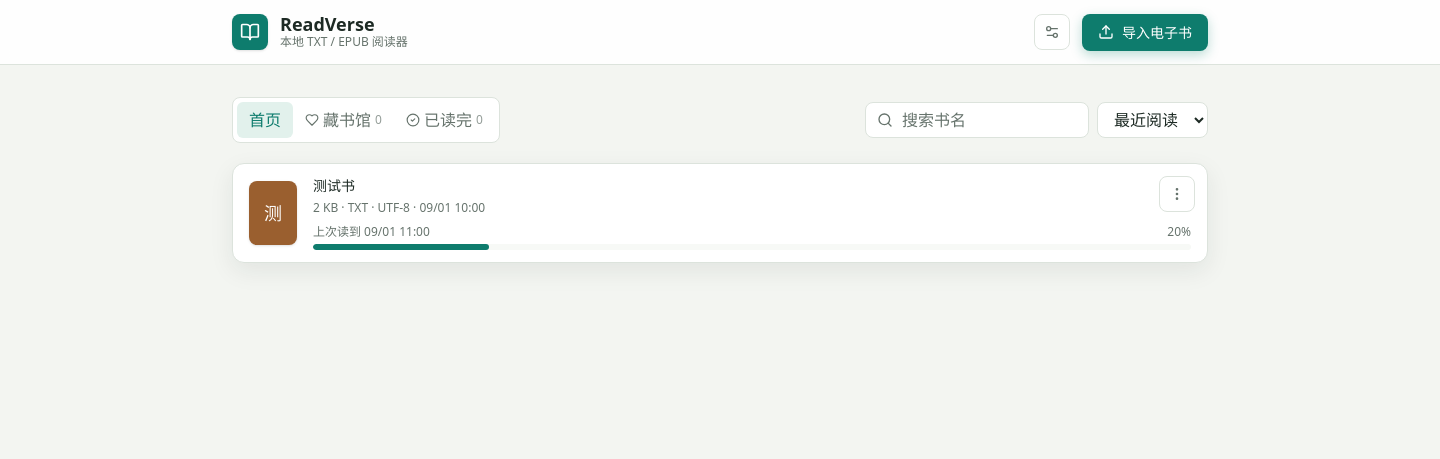
Scenario: Shelf › shows imported books and imports a new one
Expected: the text "测试书" is shown, [313, 176, 355, 196]
Click the button "导入电子书": (1145, 32) [1082, 14, 1208, 50]
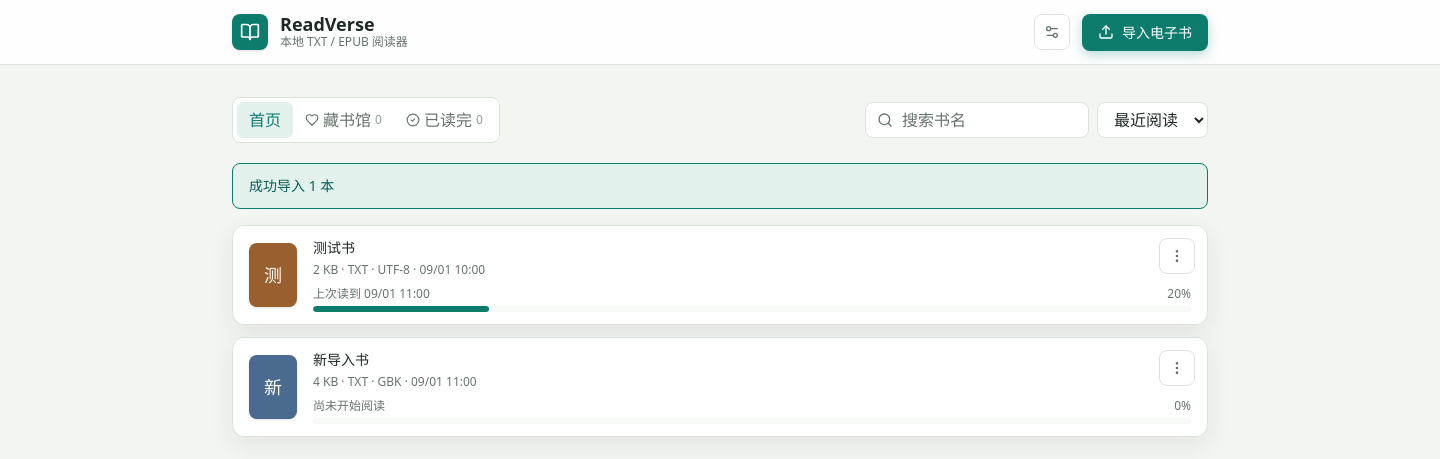
Expected: the text "新导入书" is shown, [313, 350, 369, 370]
